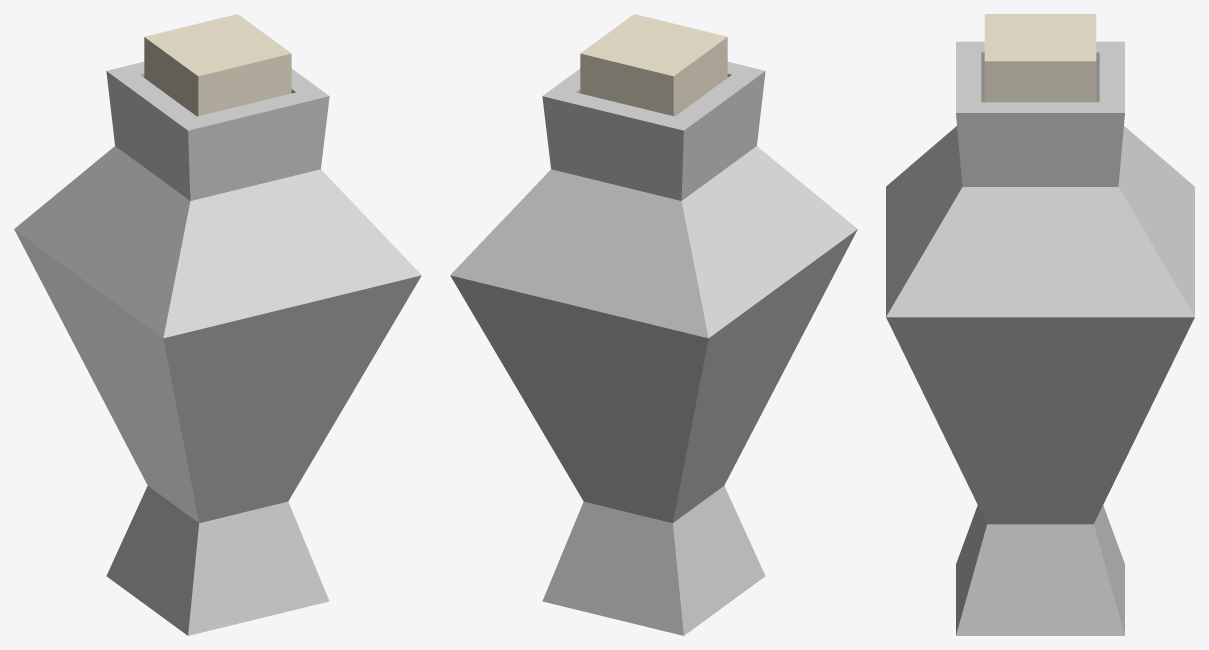
File: potions_0.fbx
3 renders of one model, left to right at view 1: azimuth 30°, elevation 25°; view 2: azimuth 150°, elevation 25°; view 3: azimuth 270°, elevation 25°, orthographic. The views are drawn at different scales.
Visible parts, largest first — view 1: HealthVial; view 2: HealthVial; view 3: HealthVial.
Boxes of the visible parts, box(x1,y1,x2,y2) form: HealthVial: box(14, 14, 421, 635); HealthVial: box(450, 14, 857, 635); HealthVial: box(886, 14, 1194, 635).
Bounding box in the file's own units: 8.86 × 17.8 × 8.86.
